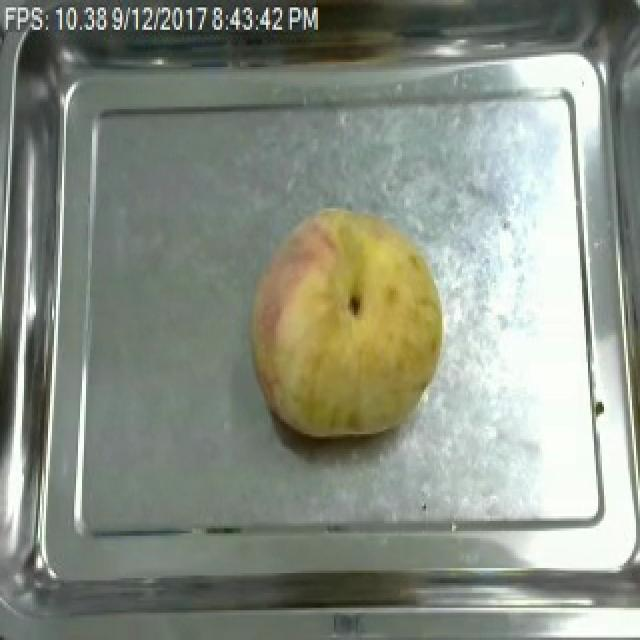Fruit: (240, 198, 454, 446)
